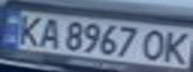6: (100, 21, 121, 56)
7: (115, 24, 142, 58)
8: (60, 19, 84, 52)
9: (78, 20, 103, 54)
A: (33, 16, 63, 50)
K: (12, 12, 48, 46), (160, 29, 193, 66)
O: (139, 27, 172, 62)
